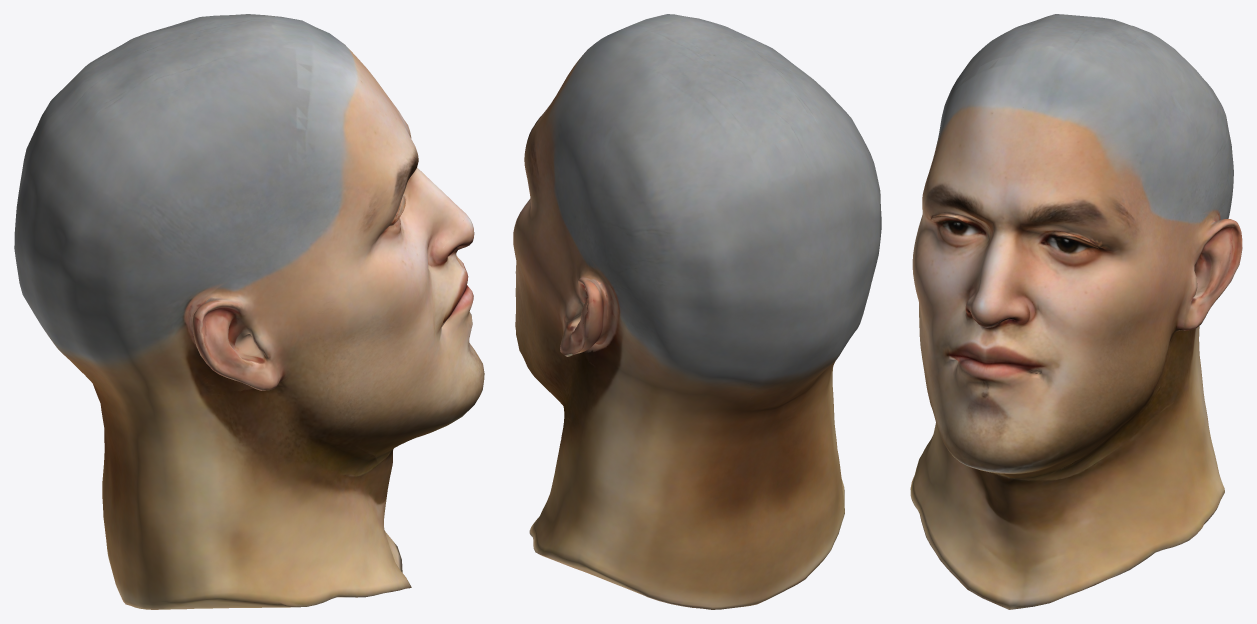
The model's file is nose1.glb.
The picture shows the model from 3 angles, left to right: view 1: azimuth 30°, elevation 25°; view 2: azimuth 150°, elevation 25°; view 3: azimuth 270°, elevation 25°; orthographic projection. The views are drawn at different scales.
Parts seen in each view (by area): view 1: Object_4; view 2: Object_4; view 3: Object_4.
Part boxes in pixels (<box>): Object_4: <box>14,14,484,609</box>; Object_4: <box>513,14,881,609</box>; Object_4: <box>910,14,1242,609</box>.
Size of the model in its own units: 1.39 by 1.91 by 1.11.
Materials: 1 (1 with a texture image).
